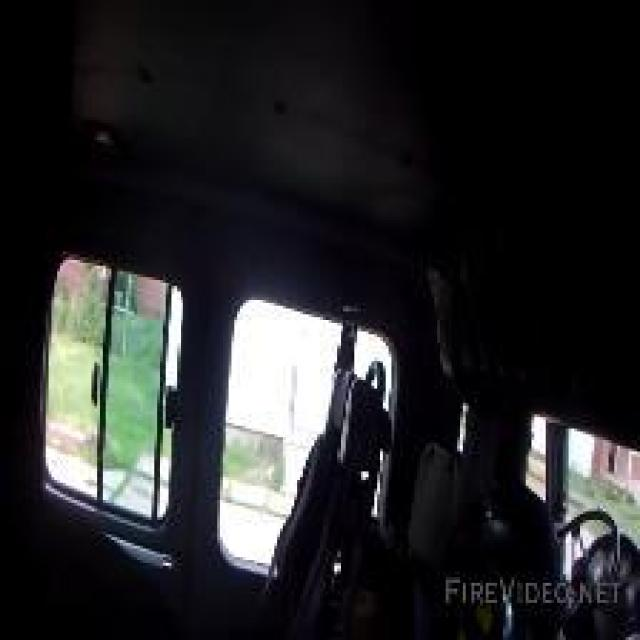other: (236, 306, 298, 424)
